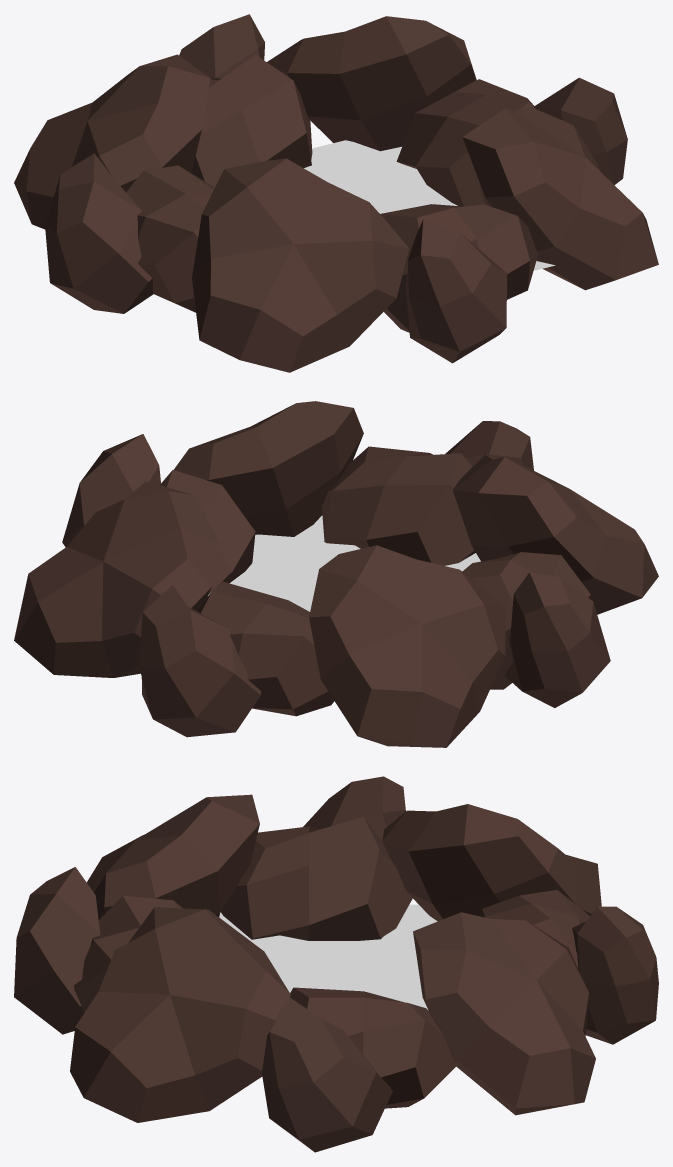
File: Lava Ground.fbx
3 renders of one model, top to bottom at view 1: azimuth 30°, elevation 25°; view 2: azimuth 150°, elevation 25°; view 3: azimuth 270°, elevation 25°, orthographic. The views are drawn at different scales.
Parts seen in each view (by area): view 1: rock, Plane.004; view 2: rock, Plane.004; view 3: rock, Plane.004.
Boxes of the visible parts, box(x1,y1,x2,y2) form: rock: box(14, 14, 658, 372); Plane.004: box(304, 140, 555, 270); rock: box(14, 401, 658, 747); Plane.004: box(208, 515, 480, 611); rock: box(14, 776, 658, 1152); Plane.004: box(219, 904, 437, 1010).
Bounding box in the file's own units: 346 × 106 × 346.
